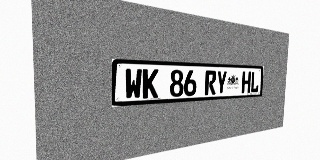6: (184, 70, 197, 96)
8: (170, 69, 184, 97)
H: (241, 71, 251, 93)
K: (142, 69, 159, 99)
L: (250, 72, 259, 93)
R: (205, 70, 216, 95)
W: (125, 68, 142, 100)
Y: (216, 71, 227, 95)
